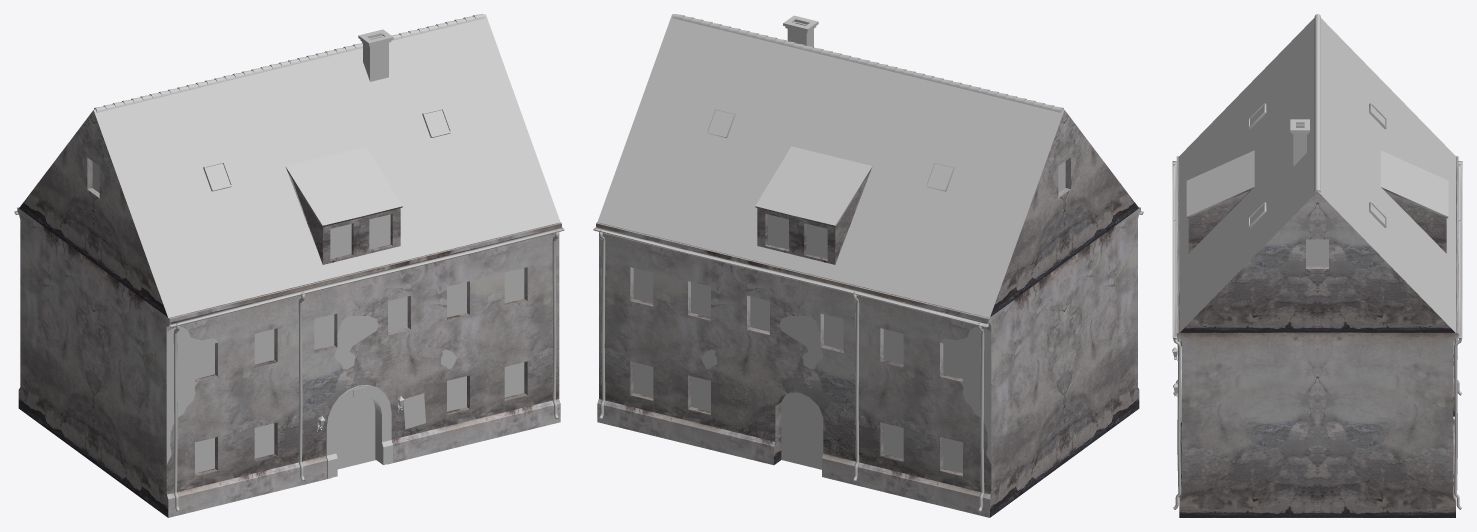
The picture shows the model from 3 angles, left to right: view 1: azimuth 30°, elevation 25°; view 2: azimuth 150°, elevation 25°; view 3: azimuth 270°, elevation 25°; orthographic projection. The views are drawn at different scales.
Parts seen in each view (by area): view 1: Object02; view 2: Object02; view 3: Object02.
Part boxes in pixels (x1,y1,x2,y2): Object02: (14,14,564,517); Object02: (593,14,1143,517); Object02: (1172,14,1462,517).
Size of the model in its own units: 157 by 140 by 109.
